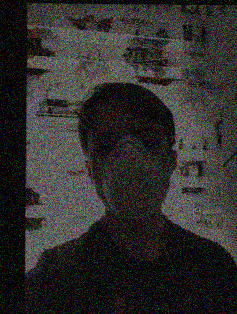with_mask: (88, 115, 171, 220)
